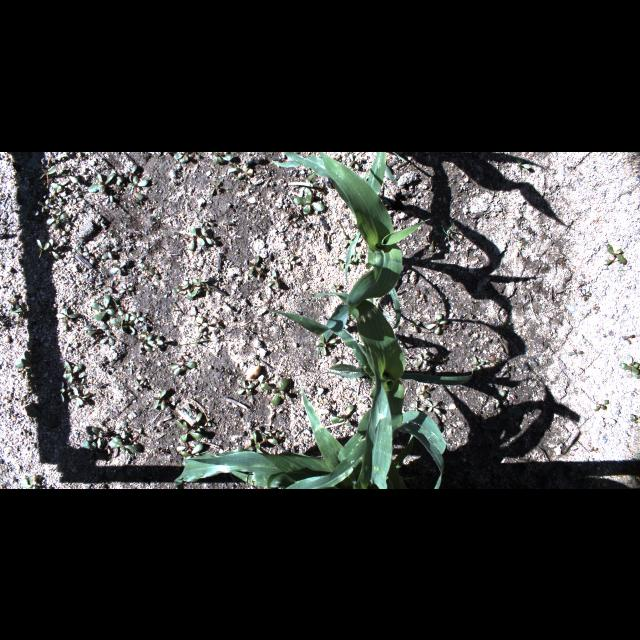crop: (262, 292, 473, 488), (272, 151, 431, 331), (174, 387, 418, 488), (346, 151, 396, 281), (352, 346, 392, 488)
weed: (244, 430, 282, 460), (174, 413, 210, 443), (13, 342, 41, 374), (110, 428, 146, 452), (294, 188, 326, 214), (260, 378, 288, 406), (90, 294, 118, 320), (27, 407, 57, 427), (174, 444, 203, 464), (187, 227, 213, 249), (128, 175, 148, 203), (140, 331, 164, 354), (190, 274, 214, 296), (37, 238, 63, 258), (424, 312, 448, 333), (620, 354, 640, 378), (602, 243, 626, 263), (110, 313, 134, 333), (34, 167, 58, 187), (88, 174, 114, 192), (330, 404, 350, 426), (62, 362, 84, 382), (315, 334, 337, 354), (81, 442, 107, 458), (152, 387, 168, 411), (84, 324, 108, 340), (170, 363, 197, 377), (34, 298, 54, 316), (92, 428, 108, 450), (492, 388, 508, 408), (110, 296, 126, 316), (228, 162, 248, 178), (334, 252, 351, 270), (236, 380, 254, 396), (54, 307, 78, 319), (443, 222, 461, 238), (408, 401, 426, 417), (172, 152, 200, 162), (100, 246, 120, 260), (248, 256, 262, 276), (46, 212, 68, 224), (55, 378, 65, 404), (100, 330, 116, 346), (194, 316, 210, 332), (117, 422, 131, 440), (71, 385, 83, 405), (107, 260, 127, 272), (48, 180, 68, 192), (414, 352, 430, 366), (62, 169, 78, 183), (128, 312, 146, 324), (284, 254, 296, 272), (266, 269, 278, 287), (348, 153, 360, 170), (84, 245, 94, 265), (168, 284, 188, 294), (417, 384, 431, 398), (24, 202, 38, 216), (138, 261, 154, 273), (313, 180, 325, 196), (134, 376, 146, 392), (3, 294, 15, 310), (48, 188, 64, 200), (68, 192, 84, 204), (214, 152, 232, 162), (472, 355, 484, 369), (110, 169, 122, 183), (426, 400, 440, 412), (182, 286, 194, 300), (568, 348, 586, 357), (20, 479, 36, 489), (266, 306, 282, 316), (429, 232, 437, 252), (17, 302, 27, 318), (75, 246, 88, 258), (344, 234, 356, 246), (128, 164, 136, 182), (594, 399, 608, 409), (516, 158, 530, 168), (120, 284, 134, 294), (38, 197, 48, 211), (486, 354, 500, 364), (211, 180, 221, 194), (408, 320, 419, 332), (25, 376, 35, 389), (202, 217, 216, 226), (185, 404, 195, 416), (580, 288, 590, 300), (212, 318, 222, 330), (333, 284, 343, 294), (23, 387, 33, 397), (264, 425, 274, 435), (197, 331, 207, 341), (441, 353, 449, 365), (622, 334, 636, 340), (141, 274, 151, 282), (630, 413, 638, 423), (306, 170, 316, 178), (353, 250, 359, 262), (63, 315, 67, 329), (589, 448, 599, 452), (518, 243, 524, 249)
